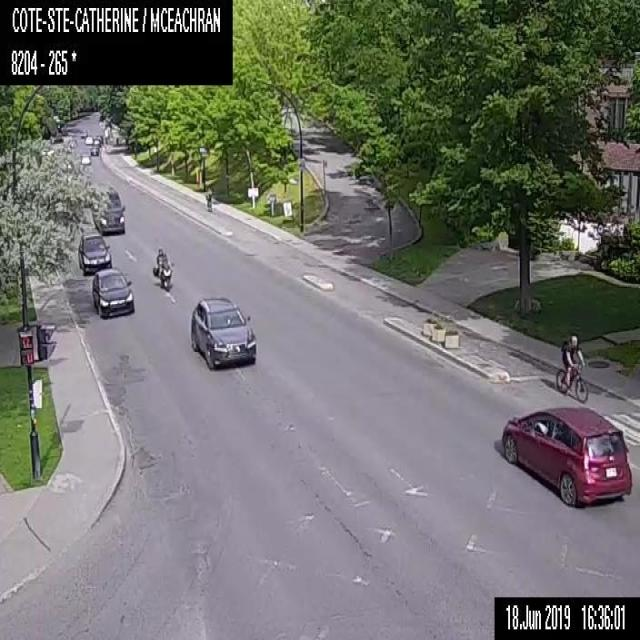cyclist: (555, 333, 589, 401), (202, 188, 214, 212)
vehicle: (501, 405, 633, 504), (190, 296, 255, 369), (91, 266, 133, 317), (92, 185, 125, 234), (78, 232, 110, 272), (152, 247, 174, 288), (90, 145, 99, 155), (81, 156, 90, 164), (80, 128, 87, 138), (84, 136, 92, 144), (96, 134, 102, 144), (93, 137, 100, 144)
